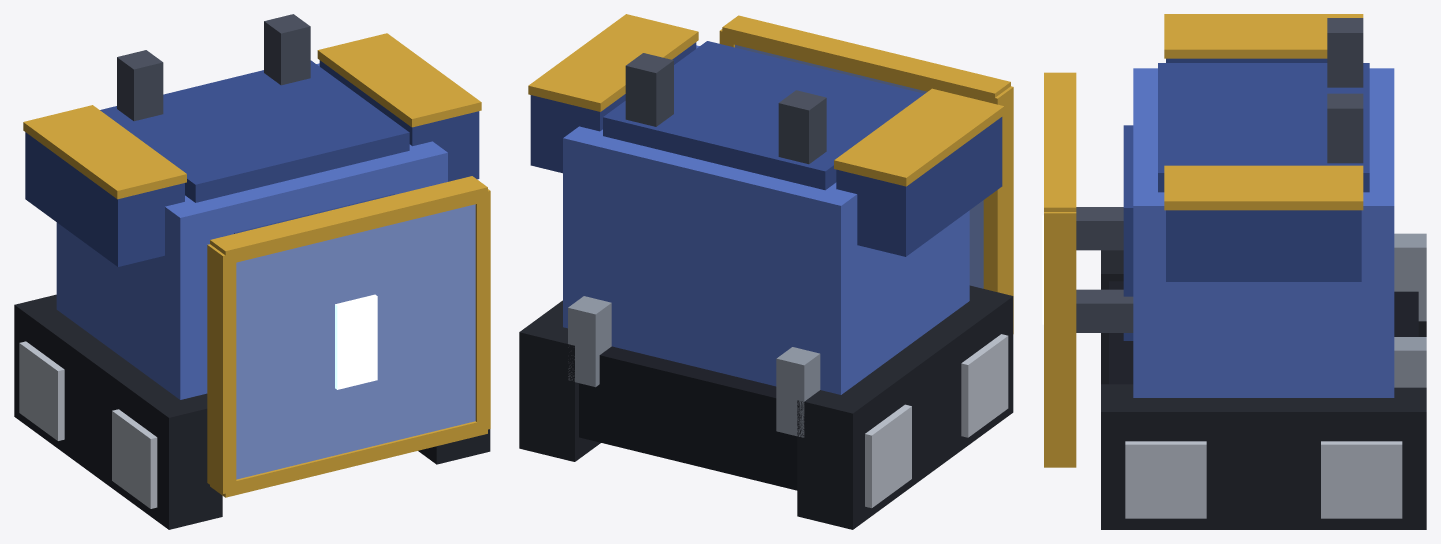
Rendered from enemy-tank.glb.
The picture shows the model from 3 angles, left to right: view 1: azimuth 30°, elevation 25°; view 2: azimuth 150°, elevation 25°; view 3: azimuth 270°, elevation 25°; orthographic projection. The views are drawn at different scales.
Visible parts, largest first — view 1: shield, body, body_top, track_r, shoulder_r, shoulder_trim_l, shoulder_trim_r, shield_rim_top, shield_rim_r, shield_rim_bottom, shield_glow, shoulder_l (+6 smaller); view 2: body, track_r, body_top, base, shoulder_r, shoulder_trim_r, shield_rim_top, track_l, shoulder_trim_l, shield_rim_r, wheel_fr, wheel_br (+6 smaller); view 3: body, track_l, body_top, shoulder_l, shoulder_trim_l, shield_rim_l, shoulder_trim_r, wheel_fl, wheel_bl, shield_rim_top, exhaust_l, exhaust_r (+8 smaller).
Boxes of the visible parts, bbox=[...] form: shield: bbox=[236, 204, 475, 479]; body: bbox=[56, 63, 447, 399]; body_top: bbox=[100, 60, 409, 202]; track_r: bbox=[14, 294, 222, 529]; shoulder_r: bbox=[25, 132, 184, 266]; shoulder_trim_l: bbox=[317, 33, 481, 127]; shoulder_trim_r: bbox=[23, 105, 186, 199]; shield_rim_top: bbox=[210, 176, 487, 264]; shield_rim_r: bbox=[207, 244, 236, 493]; shield_rim_bottom: bbox=[210, 420, 487, 497]; shield_glow: bbox=[335, 294, 377, 389]; shoulder_l: bbox=[319, 60, 479, 181]; body: bbox=[563, 45, 969, 394]; track_r: bbox=[797, 285, 1013, 529]; body_top: bbox=[603, 41, 924, 190]; base: bbox=[579, 346, 797, 490]; shoulder_r: bbox=[836, 117, 1002, 256]; shoulder_trim_r: bbox=[834, 88, 1004, 186]; shield_rim_top: bbox=[722, 15, 1010, 103]; track_l: bbox=[519, 300, 600, 461]; shoulder_trim_l: bbox=[528, 14, 698, 111]; shield_rim_r: bbox=[983, 86, 1013, 333]; wheel_fr: bbox=[961, 334, 1008, 437]; wheel_br: bbox=[865, 404, 911, 508]; body: bbox=[1133, 68, 1394, 397]; track_l: bbox=[1101, 384, 1426, 529]; body_top: bbox=[1158, 63, 1369, 192]; shoulder_l: bbox=[1166, 210, 1361, 281]; shoulder_trim_l: bbox=[1164, 165, 1363, 210]; shield_rim_l: bbox=[1044, 212, 1076, 464]; shoulder_trim_r: bbox=[1164, 14, 1363, 58]; wheel_fl: bbox=[1125, 441, 1206, 518]; wheel_bl: bbox=[1321, 441, 1402, 518]; shield_rim_top: bbox=[1044, 72, 1076, 211]; exhaust_l: bbox=[1327, 93, 1363, 163]; exhaust_r: bbox=[1327, 18, 1363, 87].
Size of the model in its own units: 2.72 by 2.6 by 2.36.
